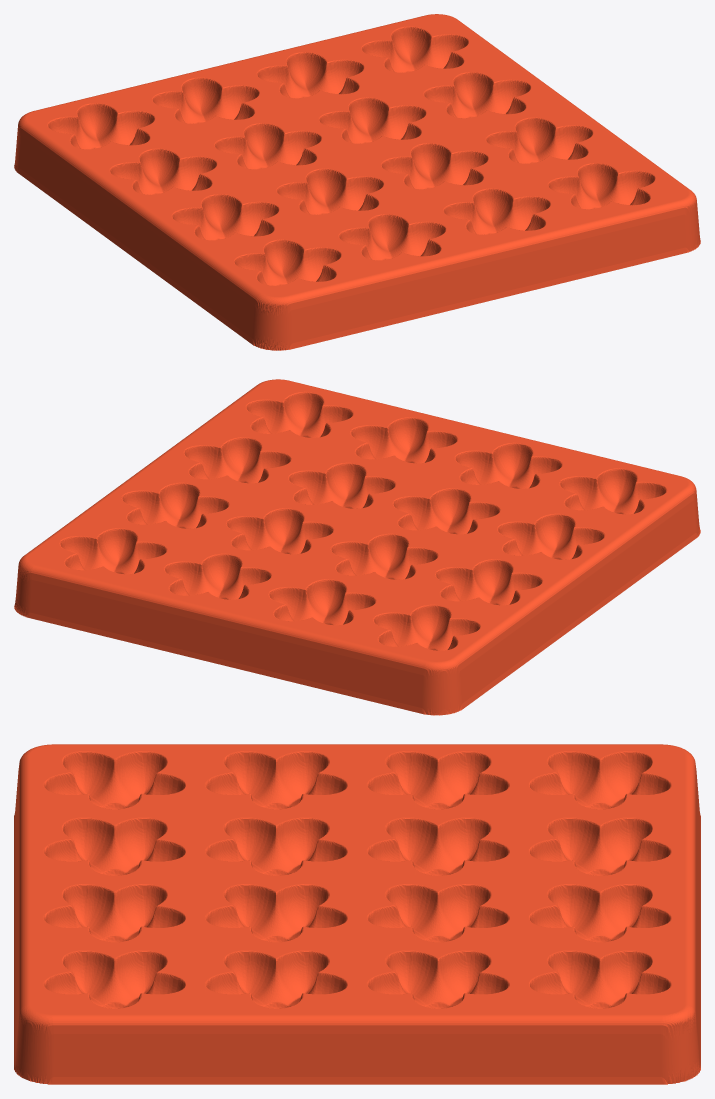
File: mold.glb
The picture shows the model from 3 angles, top to bottom: view 1: azimuth 30°, elevation 25°; view 2: azimuth 150°, elevation 25°; view 3: azimuth 270°, elevation 25°; orthographic projection. The views are drawn at different scales.
Parts seen in each view (by area): view 1: geometry_0; view 2: geometry_0; view 3: geometry_0.
Part boxes in pixels (x1=…): geometry_0: x1=14, y1=14, x2=700, y2=350; geometry_0: x1=14, y1=379, x2=700, y2=715; geometry_0: x1=14, y1=744, x2=700, y2=1084.
Bounding box in the file's own units: 0.1527 × 0.0159 × 0.1569.
